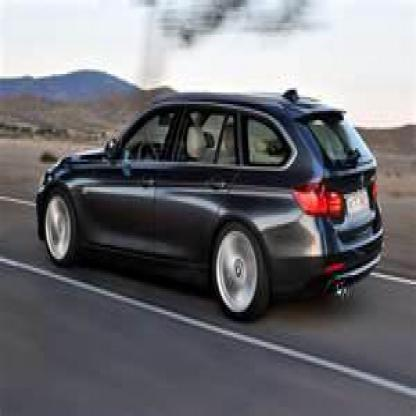Vehicle: (37, 93, 387, 328)
